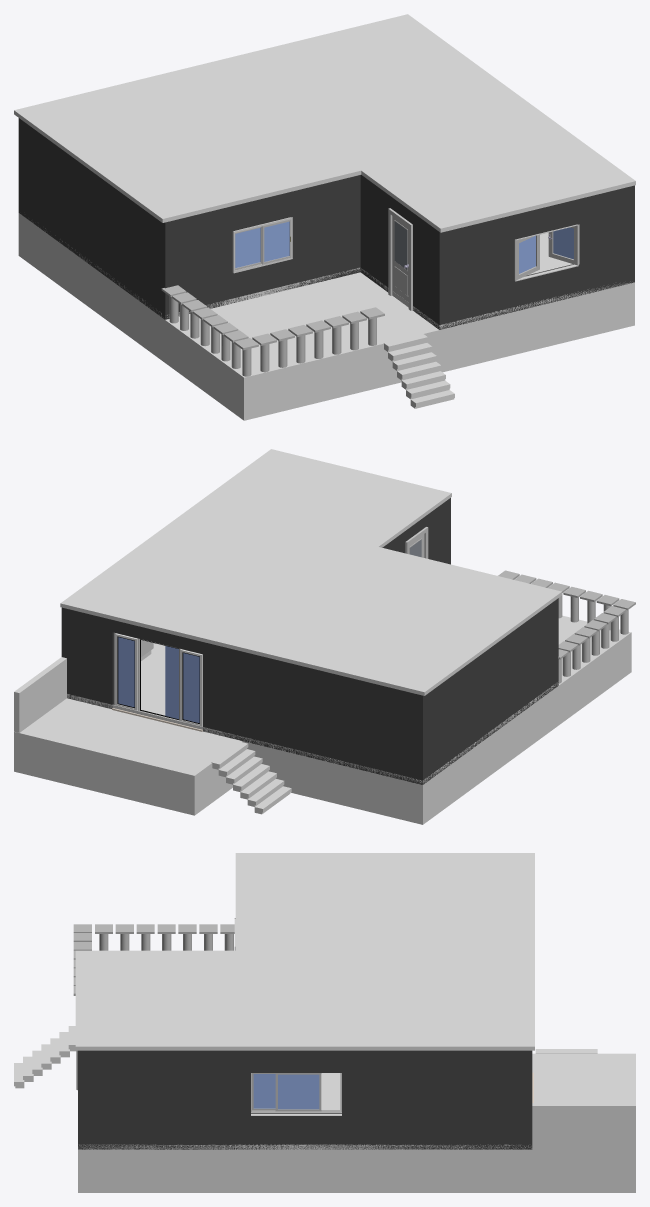
File: House.fbx
The picture shows the model from 3 angles, top to bottom: view 1: azimuth 30°, elevation 25°; view 2: azimuth 150°, elevation 25°; view 3: azimuth 270°, elevation 25°; orthographic projection. The views are drawn at different scales.
Parts seen in each view (by area): view 1: Roof, Room, Floor, Stairs, Column, Baseboard, Column.001, Column_box_top, Column_box_top.001, Door, Window.R.002, Window.R (+3 smaller); view 2: Roof, Room, Floor, Window, Stairs.001, Baseboard, Column.001, Column_box_top, Column_box_top.001, Column; view 3: Roof, Room, Floor, Baseboard, Window.L.001, Stairs, Column_box_top.001, Column.001, Window.R.001, Column_box_top.
Part boxes in pixels (box(x1,y1,x2,y2)): Roof: box(14, 14, 635, 232); Room: box(18, 118, 634, 329); Floor: box(18, 213, 634, 420); Stairs: box(384, 333, 454, 408); Column: box(242, 318, 376, 376); Baseboard: box(31, 220, 633, 329); Column.001: box(169, 296, 240, 368); Column_box_top: box(234, 307, 384, 350); Column_box_top.001: box(161, 285, 248, 342); Door: box(392, 216, 408, 302); Window.R.002: box(261, 219, 291, 264); Window.R: box(548, 224, 579, 265); Roof: box(60, 449, 561, 695); Room: box(61, 498, 558, 784); Floor: box(14, 615, 631, 824); Window: box(112, 632, 202, 731); Stairs.001: box(211, 741, 291, 814); Baseboard: box(67, 682, 558, 784); Column.001: box(558, 617, 618, 683); Column_box_top: box(498, 570, 635, 610); Column_box_top.001: box(558, 606, 626, 659); Column: box(558, 593, 628, 634); Roof: box(75, 853, 534, 1050); Room: box(78, 1050, 532, 1149); Floor: box(78, 1053, 635, 1192); Baseboard: box(78, 1144, 531, 1149); Window.L.001: box(275, 1073, 321, 1111); Stairs: box(14, 1026, 75, 1088); Column_box_top.001: box(95, 924, 234, 933); Column.001: box(99, 934, 233, 950); Window.R.001: box(252, 1073, 275, 1110); Column_box_top: box(73, 924, 91, 995).
Bounding box in the file's own units: 10.16 × 3.55 × 13.69.
